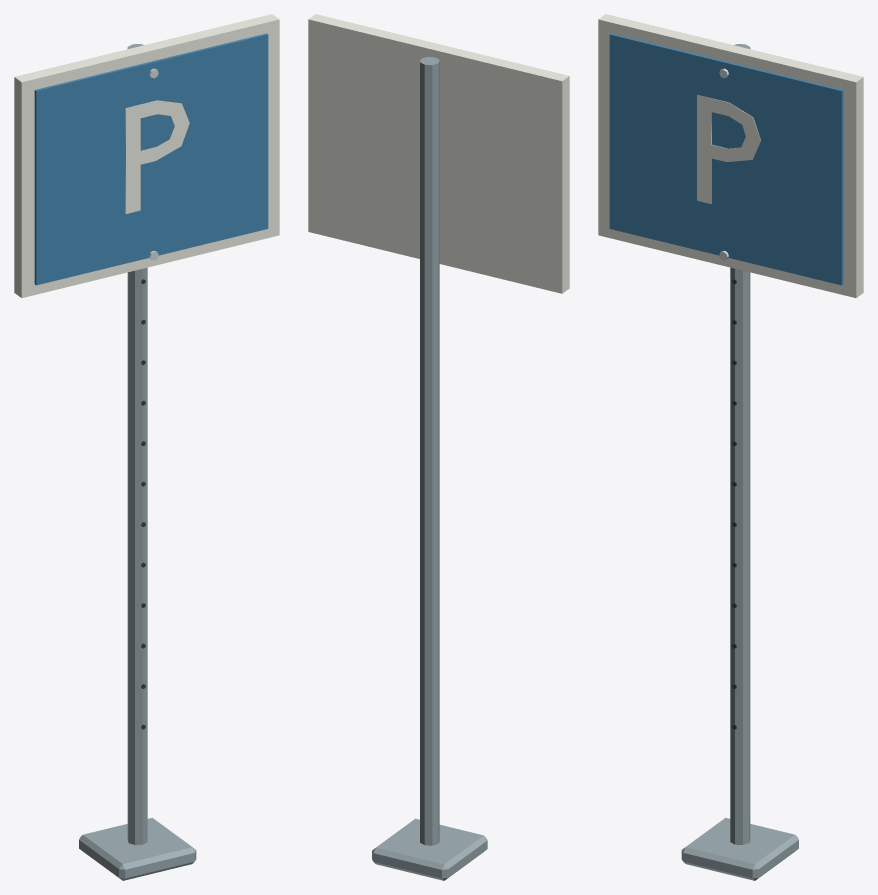
The model's file is Sign_Parking.glb.
The picture shows the model from 3 angles, left to right: view 1: azimuth 30°, elevation 25°; view 2: azimuth 150°, elevation 25°; view 3: azimuth 330°, elevation 25°; orthographic projection.
Visible parts, largest first — view 1: Sign_Parking; view 2: Sign_Parking; view 3: Sign_Parking.
Boxes of the visible parts, bbox=[...] form: Sign_Parking: bbox=[14, 14, 279, 880]; Sign_Parking: bbox=[308, 14, 569, 880]; Sign_Parking: bbox=[598, 14, 863, 880].
Bounding box in the file's own units: 0.8 × 2.42 × 0.24.
